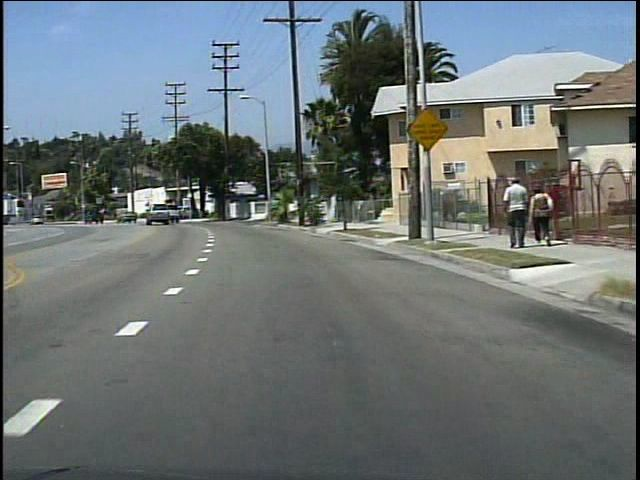person: (498, 174, 526, 250), (525, 183, 553, 245)
